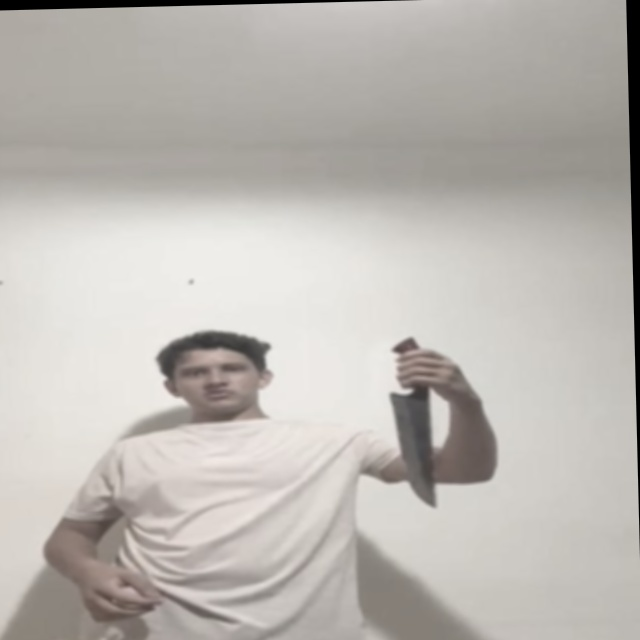Sharp-Object: (384, 390, 440, 508)
